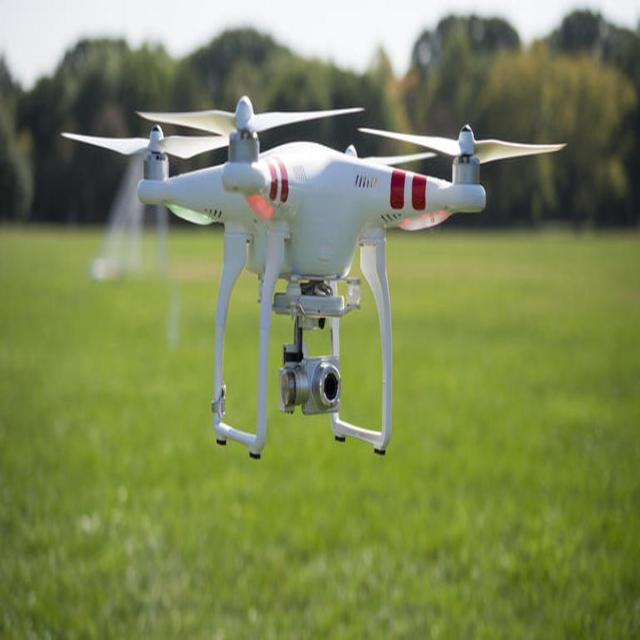drone: (87, 80, 578, 376)
